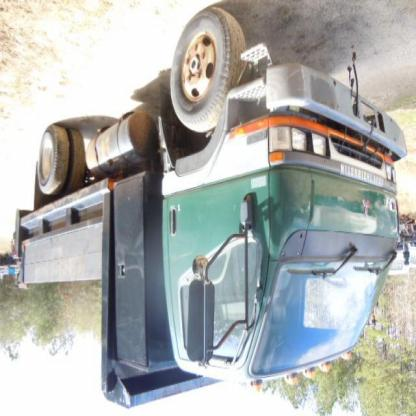truck: (12, 7, 409, 414)
